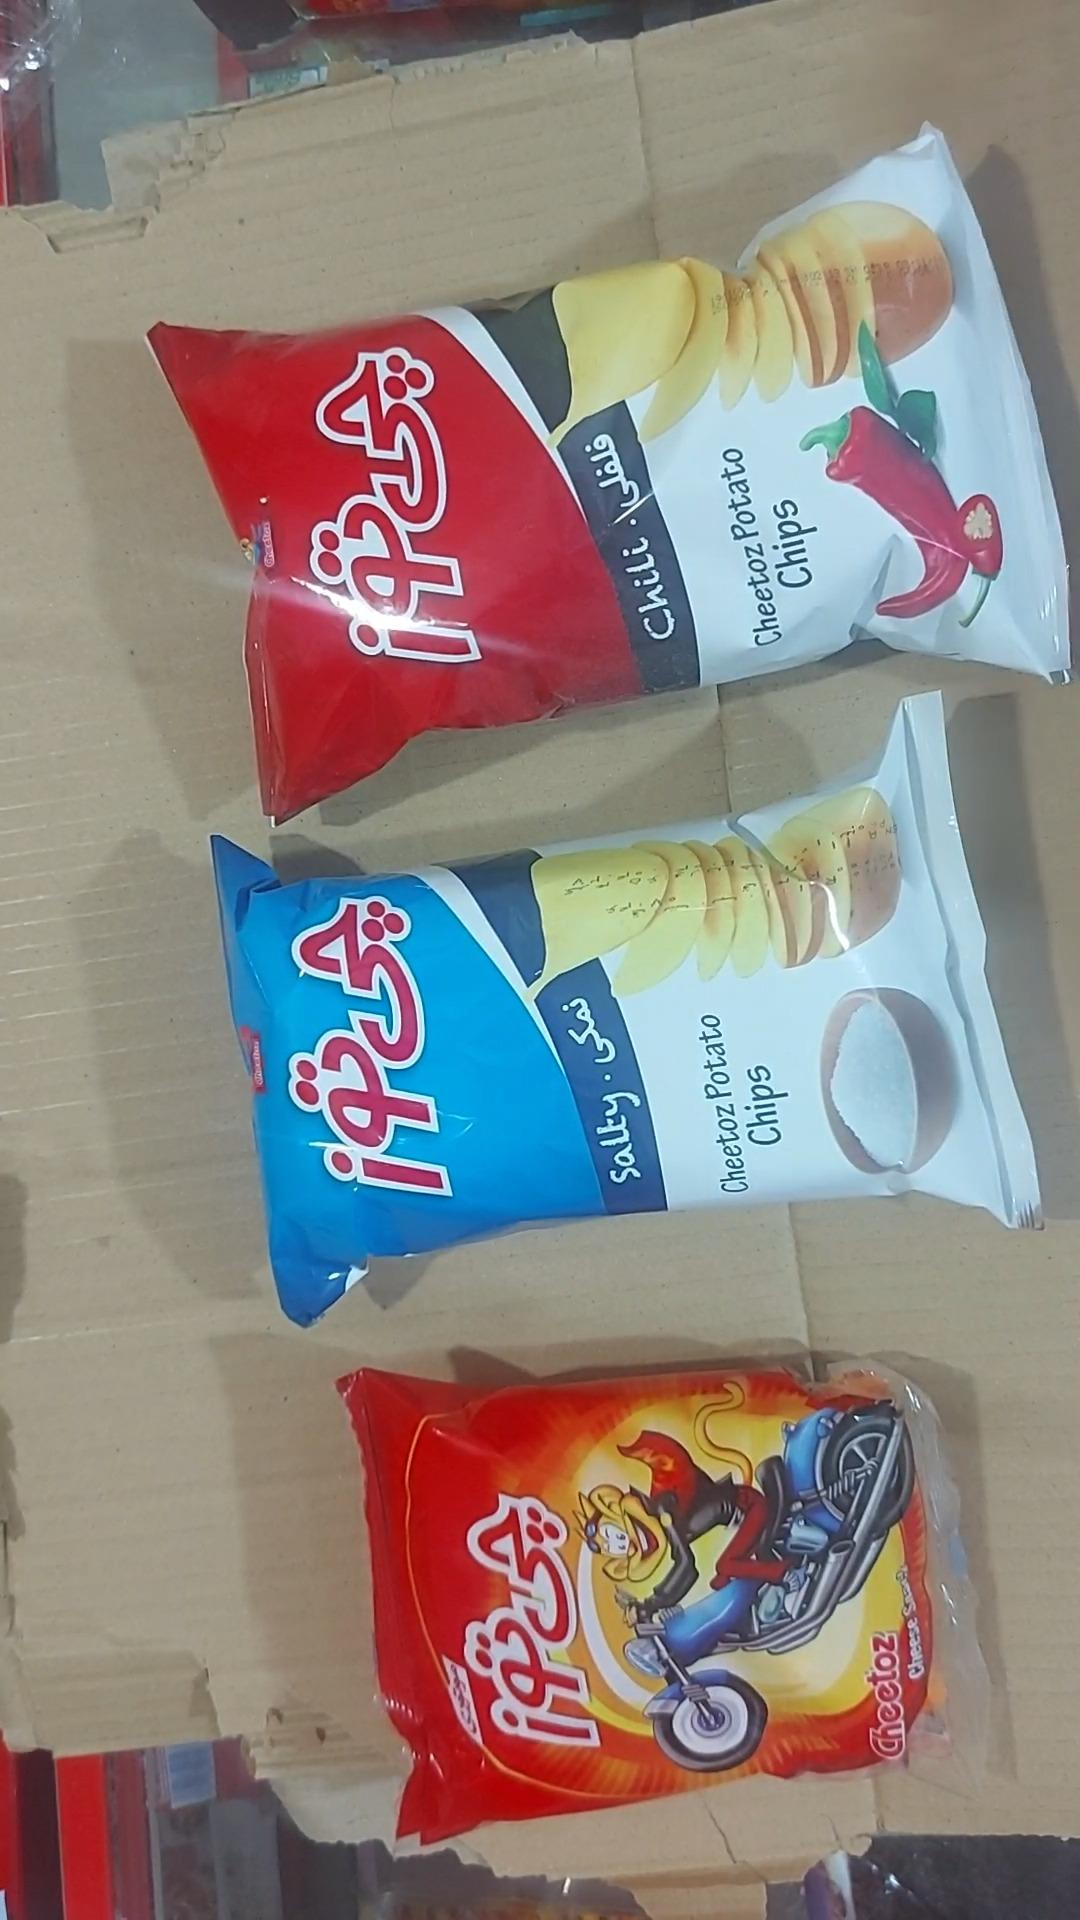Cheetoz chili chips: (146, 124, 1073, 831)
Cheetoz salty chips: (208, 694, 1044, 1329)
Cheetoz snack 30g: (334, 1360, 1009, 1859)
